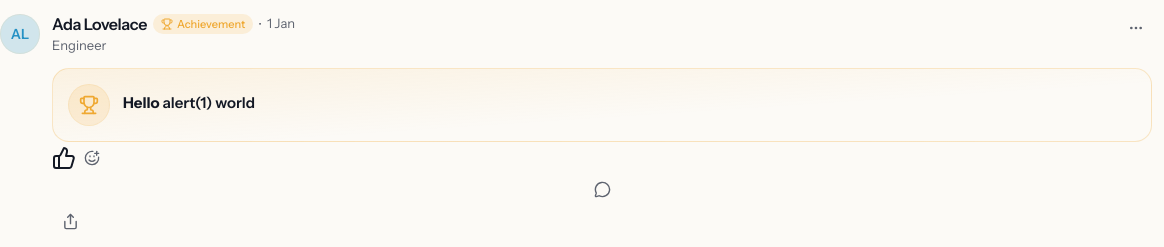
Test: PostCard › offers Edit only on the author's own TEXT post
Click the button named "post options": [1136, 28] box x1=1120 y1=12 x2=1152 y2=44
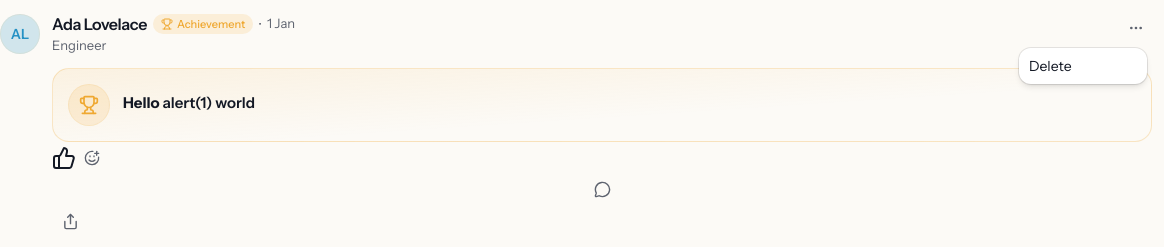
Expected: the menu item "Delete" is shown, x1=1029 y1=57 x2=1072 y2=75
